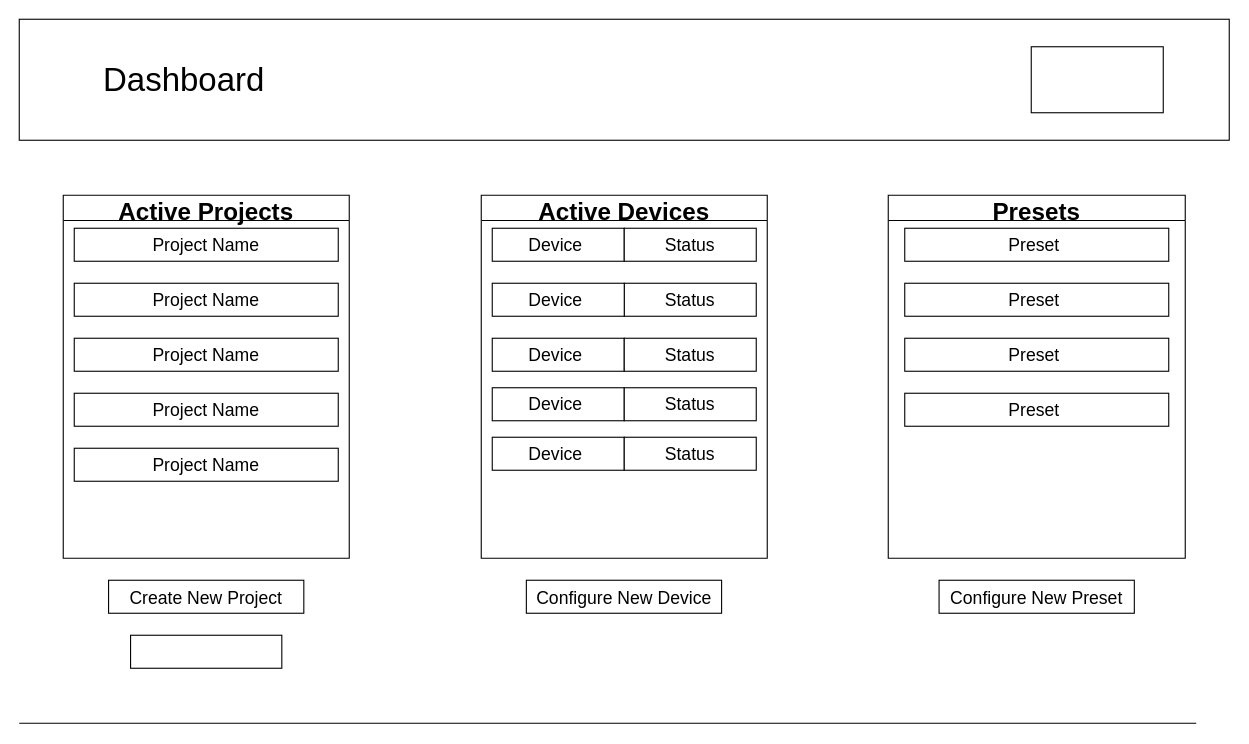
The diagram is 1249 pixels wide and 744 high, and some of its shapes have lost their labels. Each missing label, with the centre of its shape:
"Github Link" goes at [1096,79].
"View Archived Projects" goes at [205,651].
